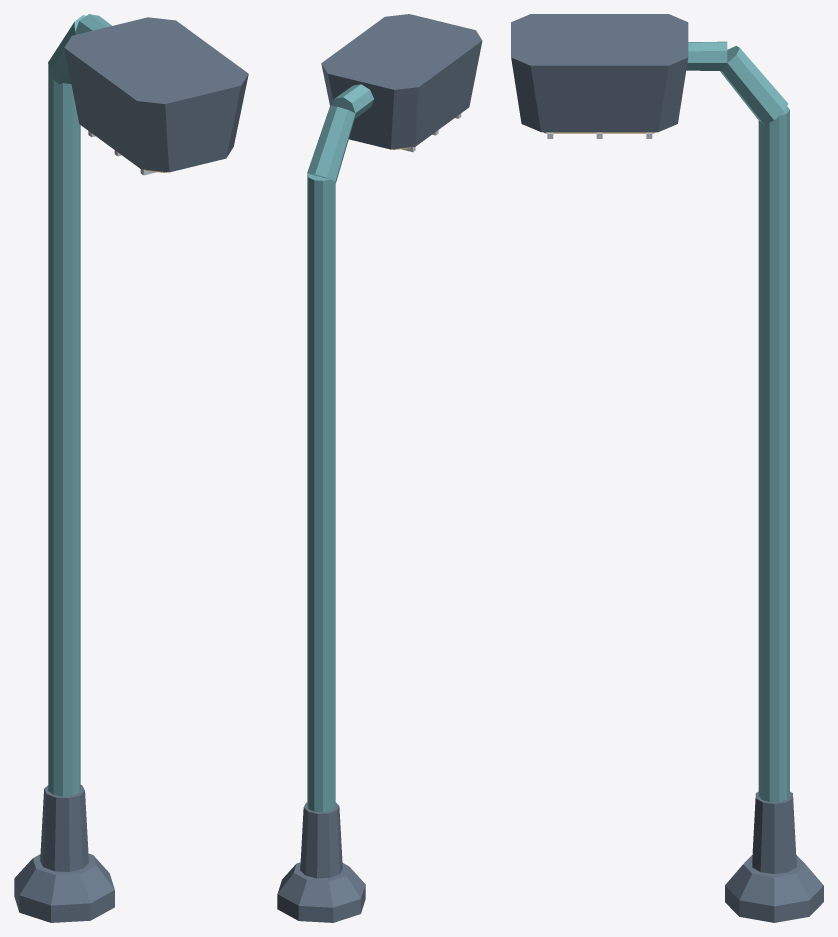
File: street_lamp.glb
The picture shows the model from 3 angles, left to right: view 1: azimuth 30°, elevation 25°; view 2: azimuth 150°, elevation 25°; view 3: azimuth 270°, elevation 25°; orthographic projection. The views are drawn at different scales.
Visible parts, largest first — view 1: lamp_pole, lamp_housing, lamp_foundation, lamp_lower_collar, lamp_neck; view 2: lamp_pole, lamp_housing, lamp_foundation, lamp_lower_collar, lamp_neck, lamp_forward_arm; view 3: lamp_pole, lamp_housing, lamp_foundation, lamp_lower_collar, lamp_neck, lamp_forward_arm.
Boxes of the visible parts, x1,y1,x2,y2 form: lamp_pole: [48, 71, 80, 796]; lamp_housing: [64, 17, 248, 172]; lamp_foundation: [14, 853, 114, 922]; lamp_lower_collar: [40, 785, 88, 871]; lamp_neck: [48, 15, 86, 84]; lamp_pole: [307, 174, 335, 812]; lamp_housing: [321, 14, 482, 149]; lamp_foundation: [277, 862, 365, 922]; lamp_lower_collar: [300, 802, 342, 878]; lamp_neck: [307, 105, 355, 182]; lamp_forward_arm: [331, 84, 374, 118]; lamp_pole: [758, 106, 789, 801]; lamp_housing: [511, 14, 688, 132]; lamp_foundation: [725, 855, 823, 922]; lamp_lower_collar: [752, 791, 796, 873]; lamp_neck: [720, 46, 788, 124]; lamp_forward_arm: [686, 41, 727, 70].
Size of the model in its own units: 0.47 by 3.65 by 1.2.
